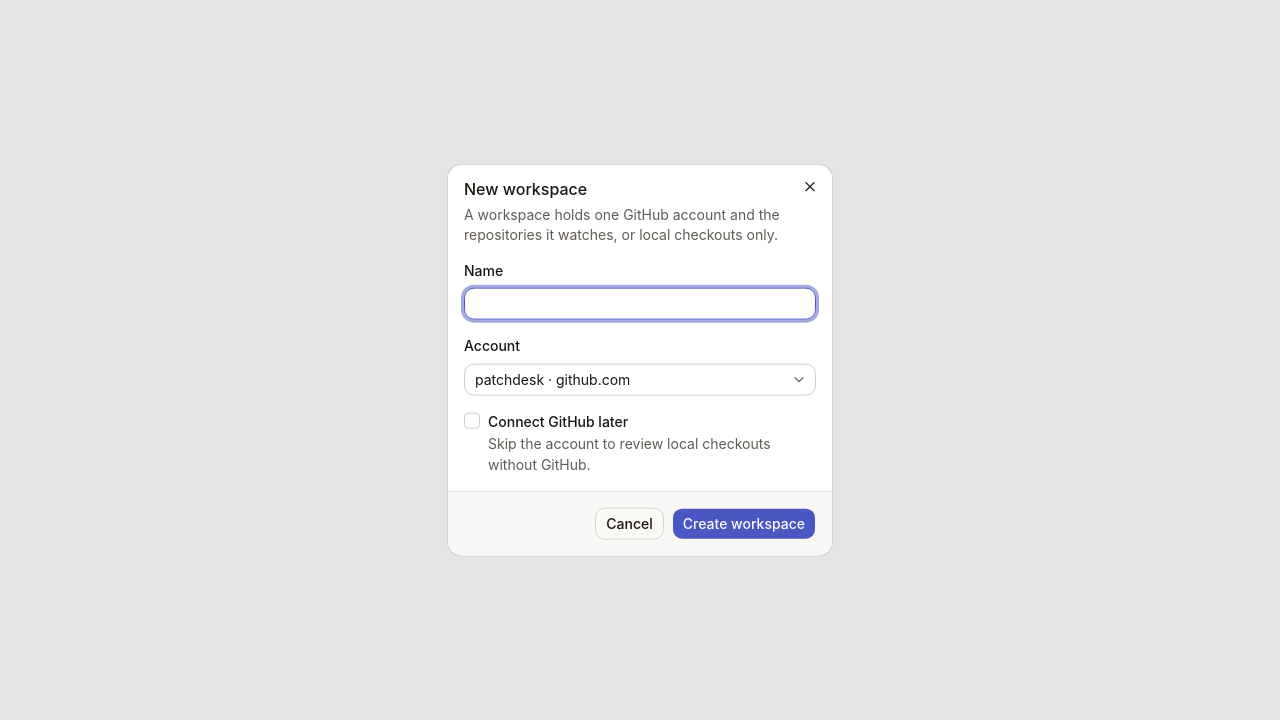
Test: New workspace dialog › keeps the dialog open and shows the failure when the create is rejected
Type "Octo Org" into the field labelled "Name". click: {"x": 640, "y": 304}
box: [464,288,816,320]
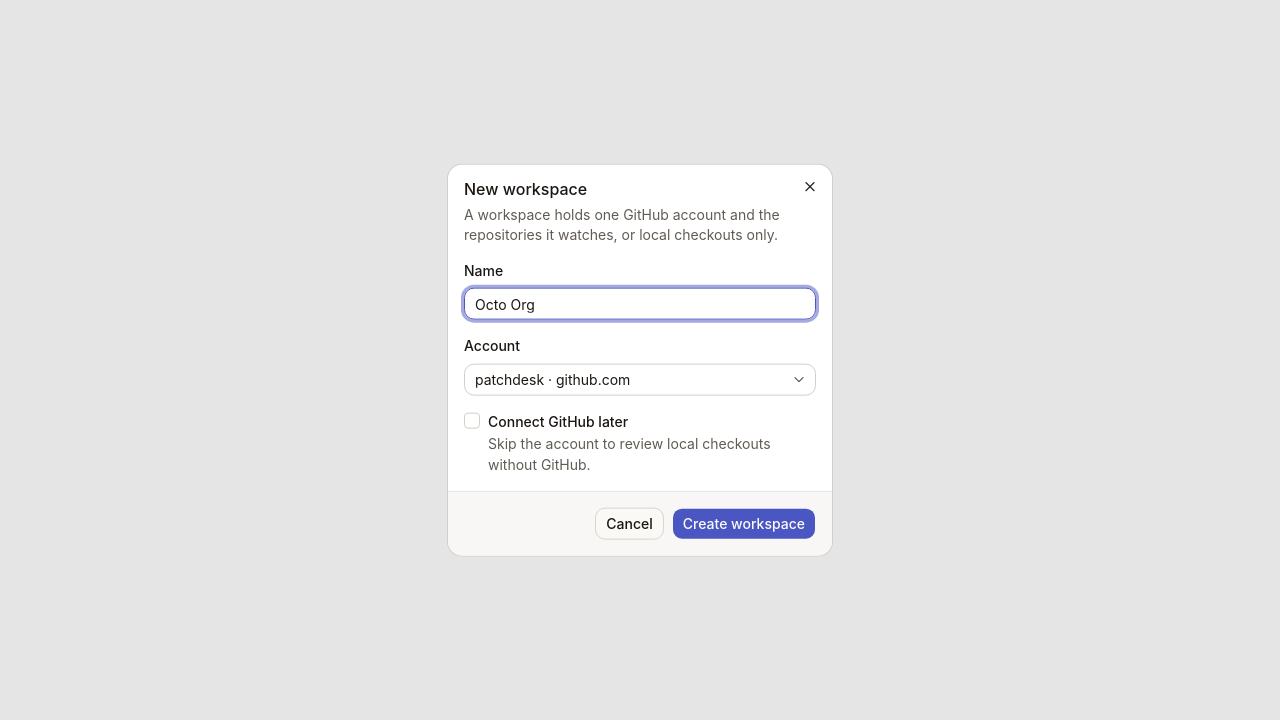
Click the button "Create workspace". click: {"x": 744, "y": 523}
box: [672,507,816,539]
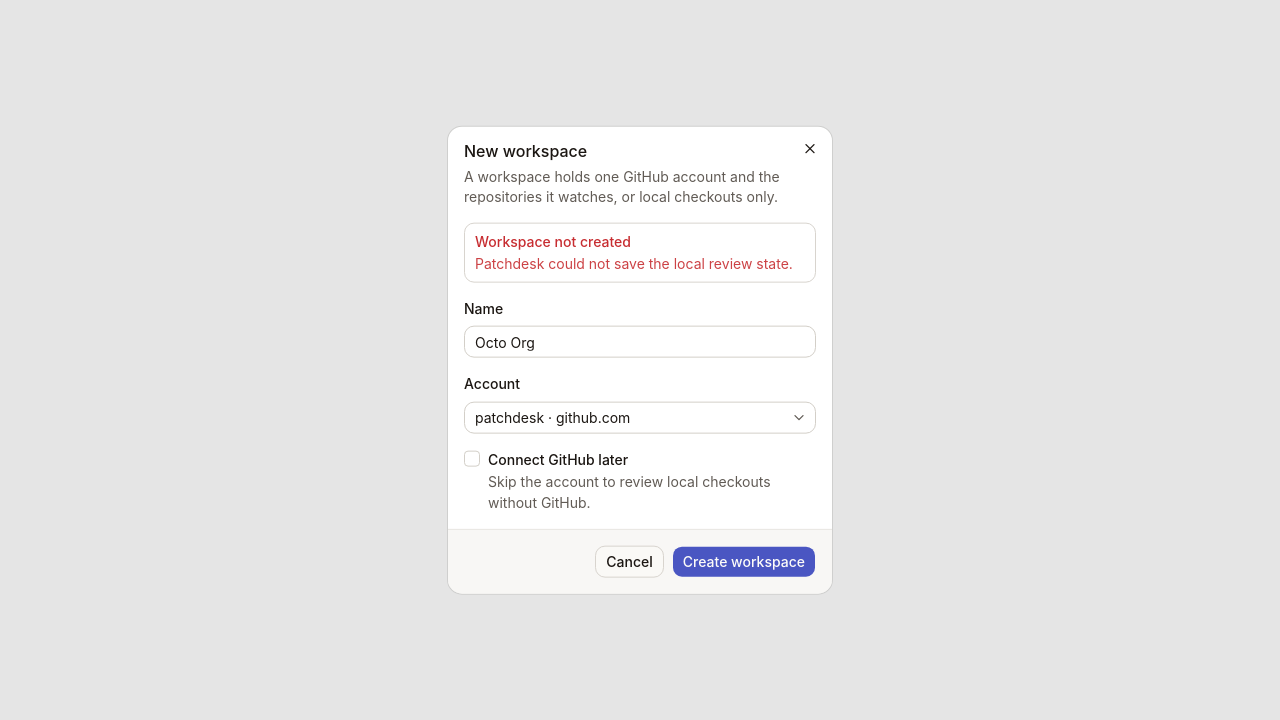
Expected: the dialog with test id "create-workspace-dialog" is shown, [448,127,832,593]
Now the message "Workspace not created Patchdesk could not save the local review state." is shown, box [464,223,816,283]
